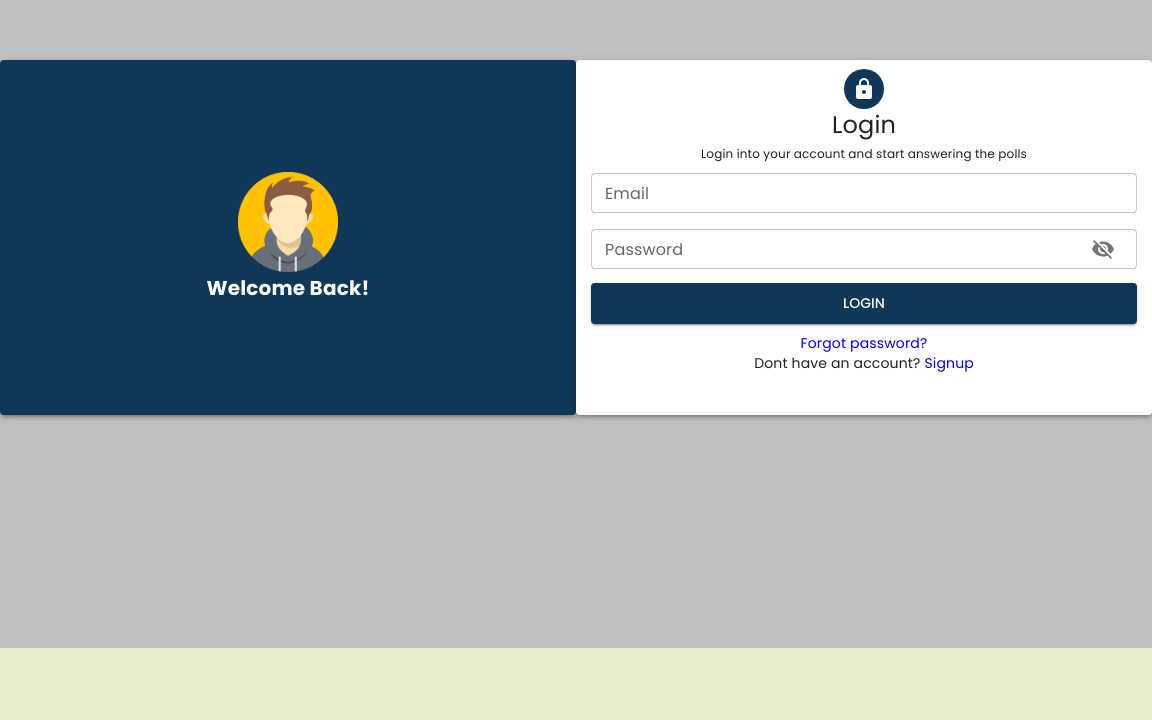
Test Login Page › Should display toaster for unknown error in BE
The width and height of the screenshot is (1152, 720).
Type "servererror@gmail.com" into the field with placeholder "Enter your Email".
click(864, 193); type("servererror@gmail.com")  # box [591,173,1137,213]
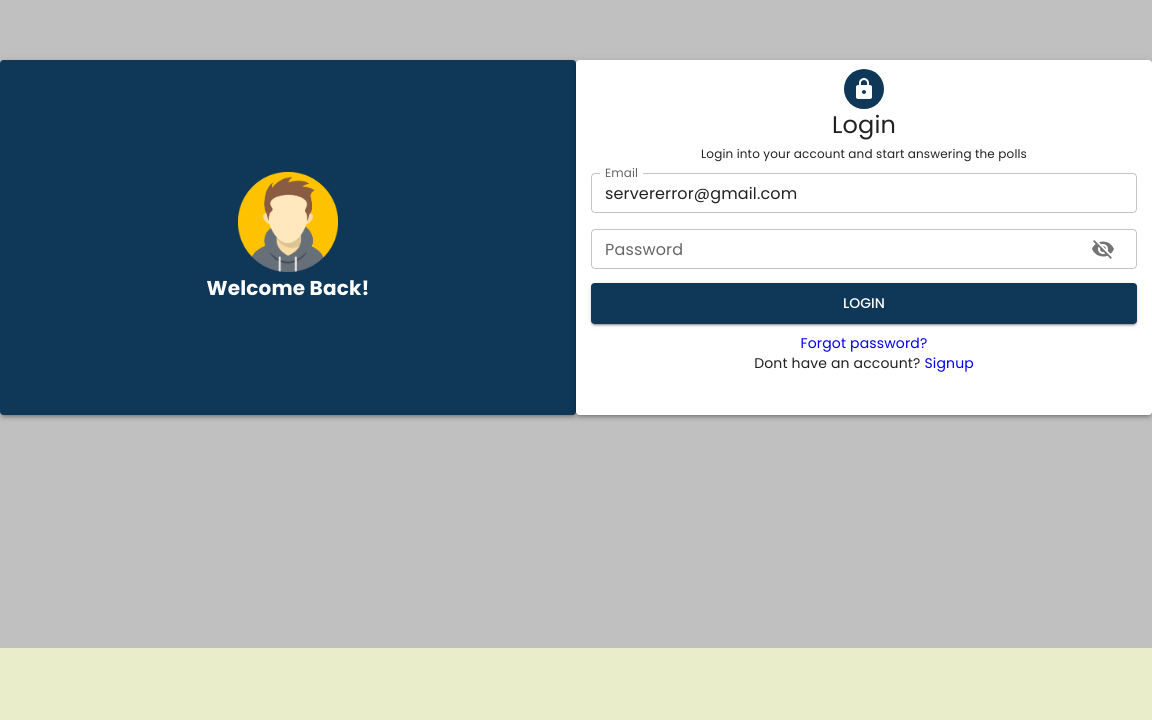
Type "Mani@1234" into the password field with placeholder "Enter your Password".
click(833, 249); type("Mani@1234")  # box [591,229,1075,269]
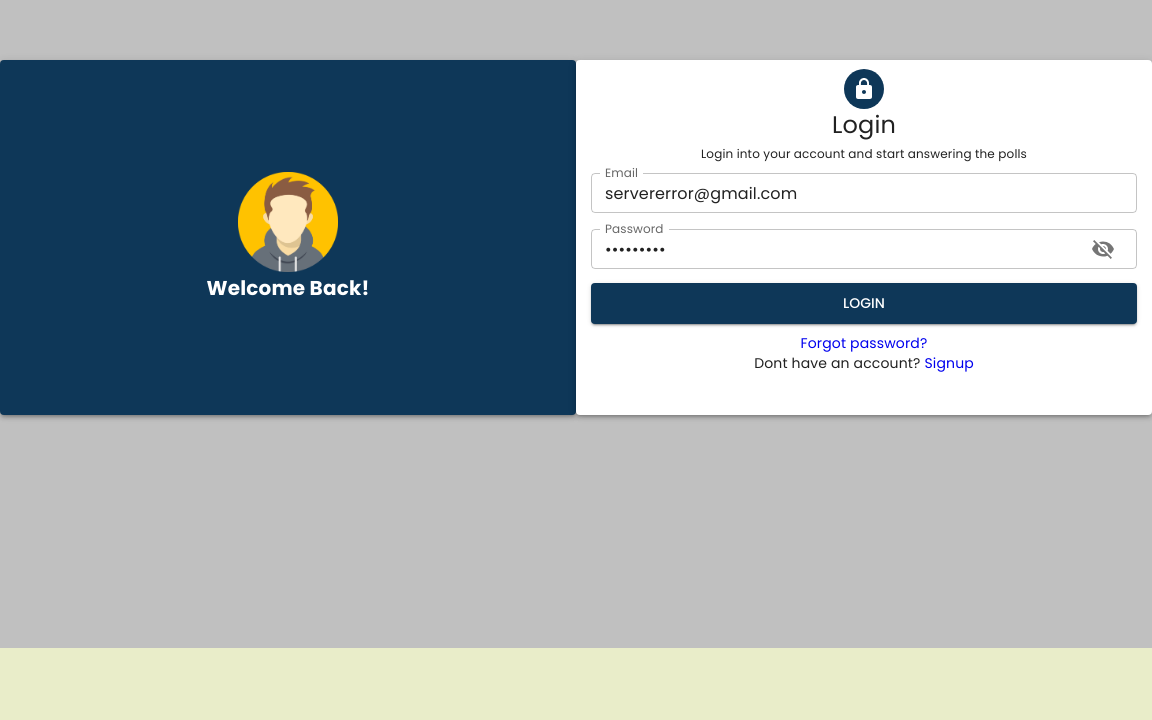
Click the button "Login".
click(864, 304)  # box [591,283,1137,324]
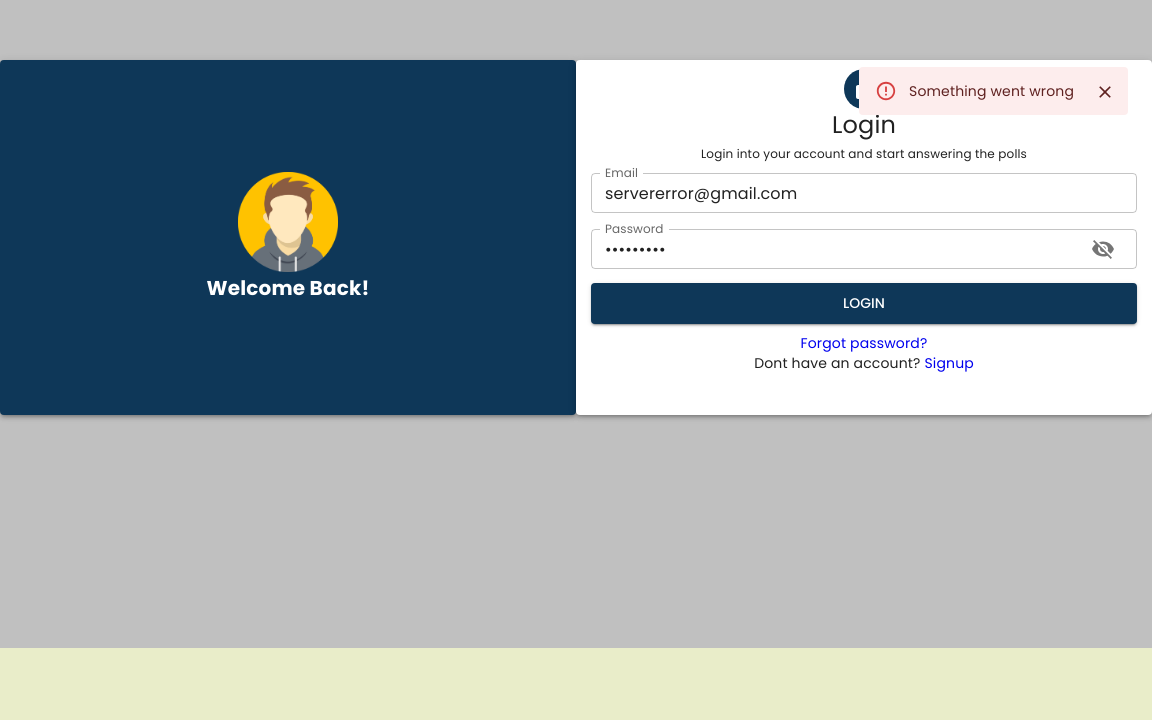
Result: the text "Something went wrong" is shown at [909,81,1074,101]
